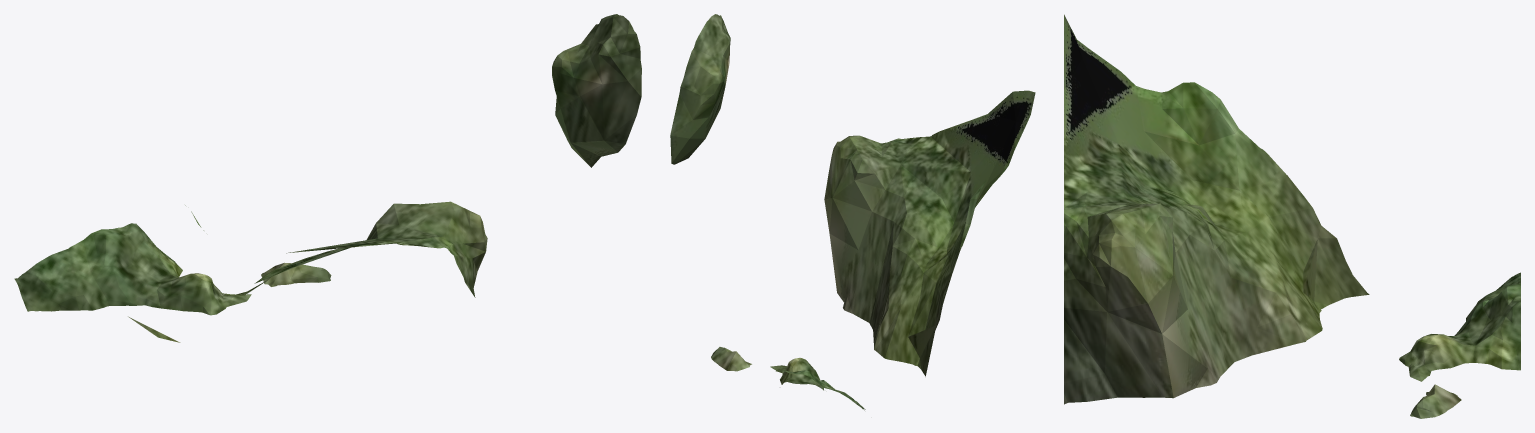
3 views of the same model, side by side, from view 1: azimuth 30°, elevation 25°; view 2: azimuth 150°, elevation 25°; view 3: azimuth 270°, elevation 25° (orthographic). The views are drawn at different scales.
Bounding box in the file's own units: 5.9 × 4.5 × 5.9.
2 materials, 2 textured.
